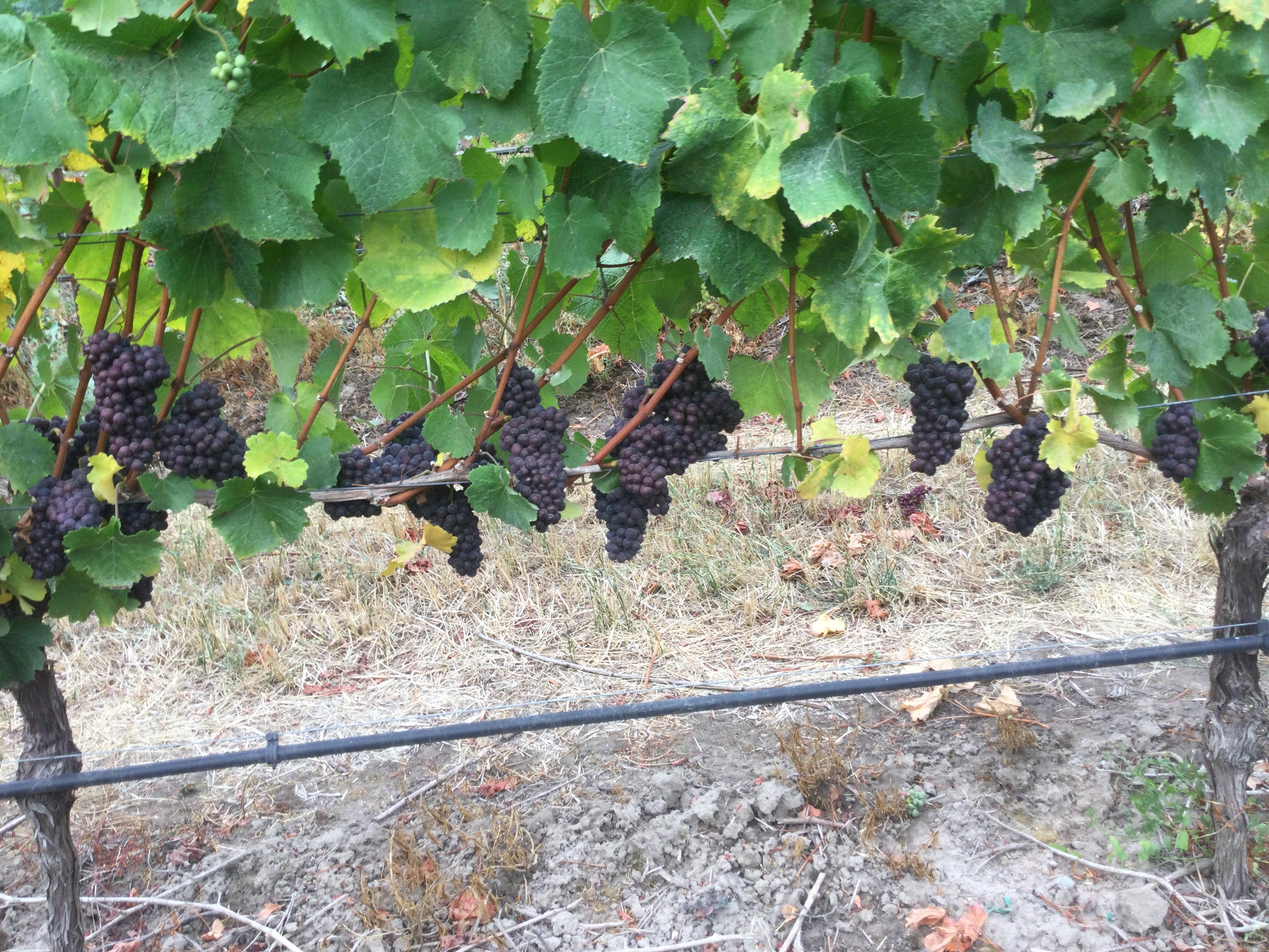leaf: (665, 66, 813, 251), (50, 18, 237, 164), (174, 66, 327, 240), (301, 47, 462, 210), (536, 4, 688, 163), (781, 76, 939, 224), (805, 216, 964, 351), (141, 175, 260, 312), (356, 208, 501, 310), (653, 192, 782, 299), (0, 12, 86, 166), (398, 0, 529, 99), (999, 24, 1132, 119), (939, 152, 1048, 264), (569, 144, 667, 256), (1174, 50, 1268, 151), (1133, 125, 1232, 213), (210, 478, 310, 557), (278, 0, 396, 65), (874, 0, 1008, 57), (461, 51, 540, 141), (259, 236, 355, 309), (64, 518, 163, 587), (1148, 283, 1229, 367), (722, 0, 811, 76), (971, 100, 1041, 192), (937, 309, 1022, 379), (1193, 408, 1264, 491), (542, 193, 611, 277), (1038, 381, 1097, 472), (596, 288, 663, 366), (727, 354, 795, 430), (49, 567, 136, 625), (432, 178, 498, 254), (798, 30, 884, 88), (465, 465, 537, 530), (642, 255, 701, 329), (255, 309, 308, 388), (194, 294, 259, 358), (0, 420, 55, 492), (83, 168, 142, 231), (0, 617, 52, 686), (243, 432, 307, 487), (1132, 329, 1191, 387), (1092, 149, 1152, 205), (499, 156, 546, 220), (1086, 334, 1134, 395), (343, 273, 395, 328), (0, 553, 46, 614), (64, 0, 141, 36), (939, 308, 992, 360), (422, 407, 474, 457), (1085, 385, 1139, 430), (138, 472, 194, 513), (299, 435, 340, 489), (799, 351, 832, 418), (1180, 478, 1237, 515), (694, 326, 732, 380), (552, 347, 589, 396), (1217, 296, 1255, 332), (537, 330, 572, 365), (1240, 394, 1268, 435), (1164, 210, 1192, 231), (570, 161, 587, 193), (401, 194, 427, 208), (524, 159, 540, 177), (503, 166, 510, 205), (1147, 200, 1158, 221), (413, 196, 430, 205), (531, 185, 541, 200), (655, 174, 659, 198), (512, 206, 518, 215), (521, 203, 528, 210), (518, 214, 533, 217), (648, 209, 651, 221), (801, 0, 808, 4), (1168, 380, 1177, 382), (137, 203, 139, 211), (1152, 360, 1153, 372), (0, 640, 2, 646), (590, 195, 595, 197), (614, 162, 619, 164), (196, 14, 201, 15), (653, 203, 654, 208), (77, 619, 82, 620), (283, 384, 287, 385), (534, 180, 535, 183), (105, 622, 108, 623), (1186, 380, 1187, 382), (1156, 232, 1157, 233), (1158, 378, 1163, 378)
